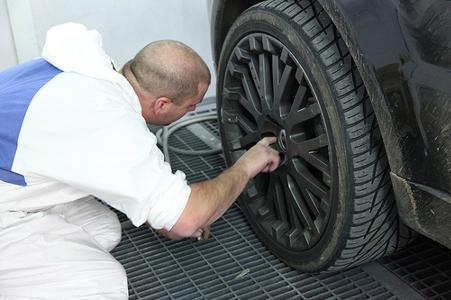person: (1, 39, 282, 300)
